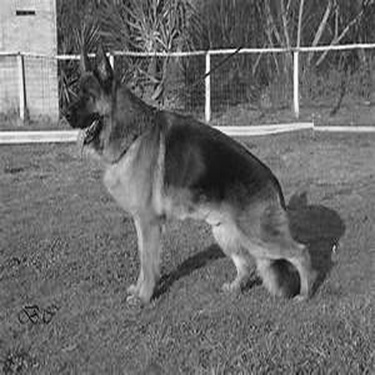dog: (49, 16, 325, 305)
